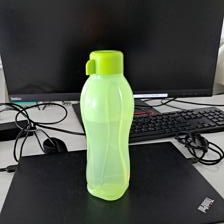bottle: (80, 49, 134, 204)
